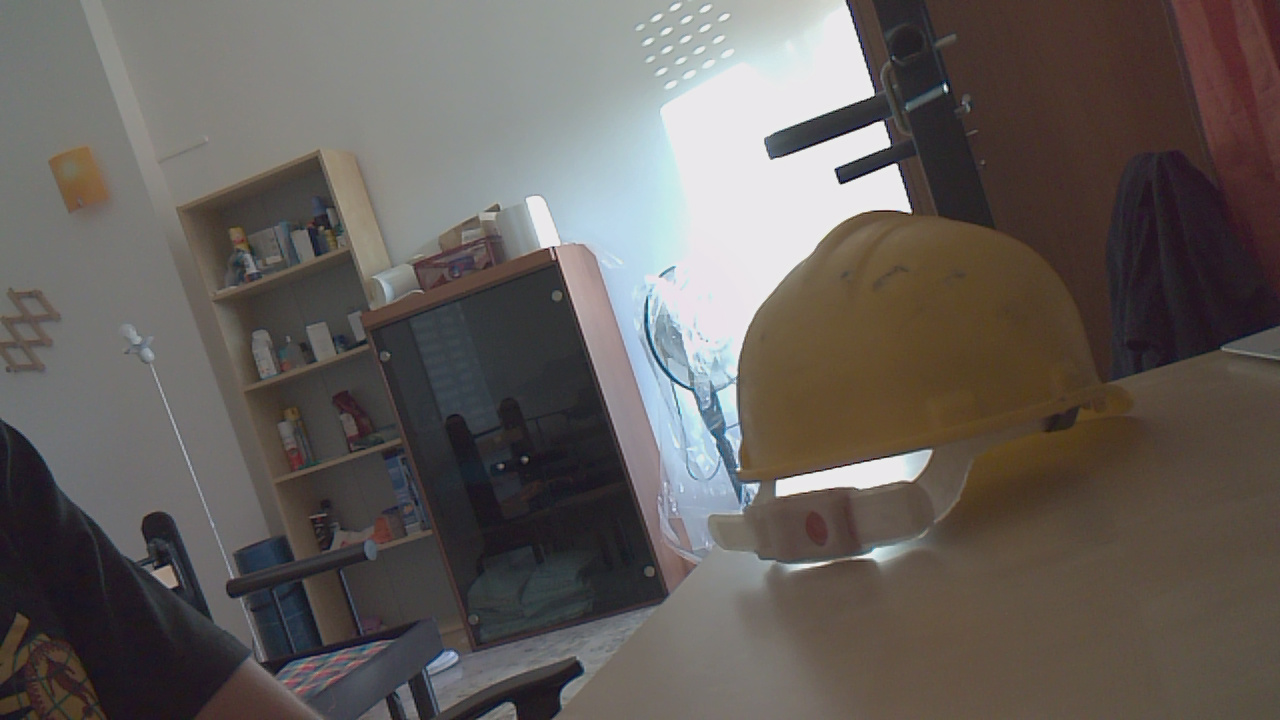Helmet: (704, 215, 1145, 572)
